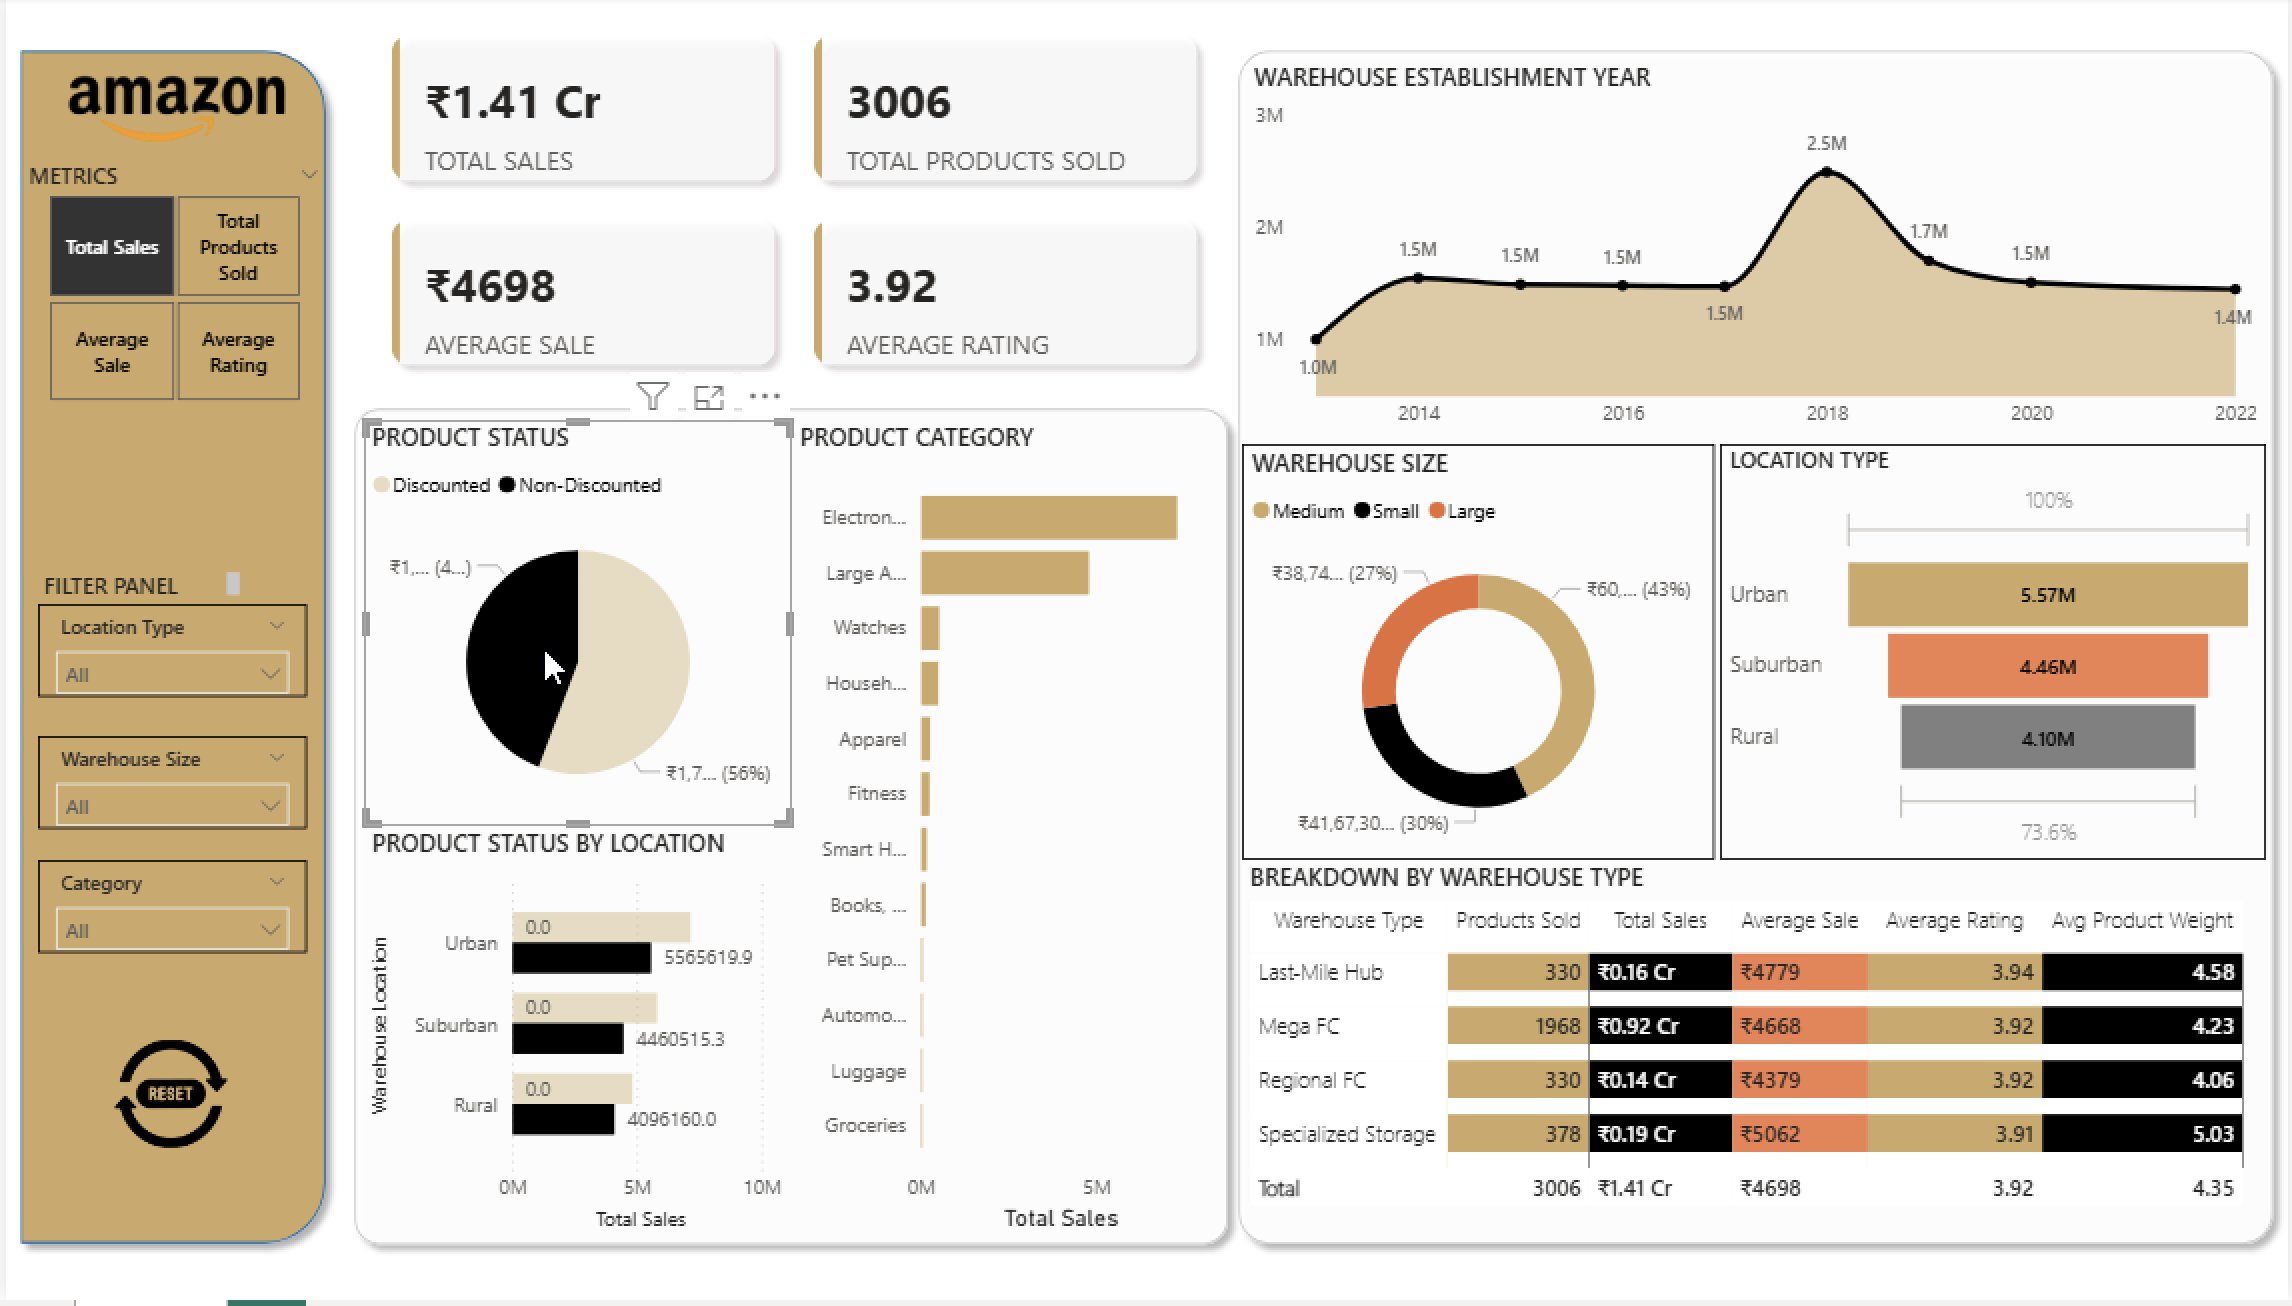

This screenshot's page, from the dashboard's own definition file:
{"tool":"powerbi","page":{"name":"Page 1","canvas":[1400,800],"ordinal":0},"visuals":[{"type":"shape","box":[0,24.9,205,749.7],"z":0},{"type":"image","box":[0,39.6,205.1,58],"z":1000},{"type":"cardVisual","fields":{"Data":["Sheet 1 - FINAL FILE.Total Sales","Sheet 1 - FINAL FILE.Total Products Sold","Sheet 1 - FINAL FILE.Average Sale","Sheet 1 - FINAL FILE.Average Rating"]},"box":[219.3,6.8,528,236.9],"z":2000},{"type":"shape","box":[204.4,243.7,553.8,530.8],"z":3000},{"type":"pieChart","title":"PRODUCT STATUS","fields":{"Y":["Sheet 1 - FINAL FILE.Overall Sales"],"Category":["Sheet 1 - FINAL FILE.Product Status"]},"box":[219.3,260,262.7,249.1],"z":4000},{"type":"slicer","fields":{"Values":["Metrics.Metrics"]},"box":[1.4,97.5,203.1,158.4],"z":5000},{"type":"clusteredBarChart","title":"PRODUCT STATUS BY LOCATION","fields":{"Y":["Sheet 1 - FINAL FILE.Overall Sales"],"Category":["Sheet 1 - FINAL FILE.Warehouse Location"],"Series":["Sheet 1 - FINAL FILE.Product Status"]},"box":[219.3,509.1,262.7,253.2],"z":6000},{"type":"barChart","title":"PRODUCT CATEGORY","fields":{"Y":["Sheet 1 - FINAL FILE.Overall Sales"],"Category":["Sheet 1 - FINAL FILE.Category"]},"box":[482,260,265.4,502.3],"z":7000},{"type":"shape","box":[747.4,24.4,652.6,750.1],"z":8000},{"type":"lineChart","title":"WAREHOUSE ESTABLISHMENT YEAR","fields":{"Y":["Sheet 1 - FINAL FILE.Overall Sales"],"Category":["Sheet 1 - FINAL FILE.Warehouse Establishment Year"]},"box":[761,39.2,625,235.4],"z":9000},{"type":"donutChart","title":"WAREHOUSE SIZE","fields":{"Y":["Sheet 1 - FINAL FILE.Overall Sales"],"Category":["Sheet 1 - FINAL FILE.Warehouse Size"]},"box":[758.2,274.7,290.1,255.1],"z":10000},{"type":"funnel","title":"LOCATION TYPE","fields":{"Category":["Sheet 1 - FINAL FILE.Warehouse Location"],"Y":["Sheet 1 - FINAL FILE.Overall Sales"]},"box":[1051.1,274.7,334.9,255.1],"z":11000},{"type":"pivotTable","title":"BREAKDOWN BY WAREHOUSE TYPE","fields":{"Rows":["Sheet 1 - FINAL FILE.Warehouse Type"],"Values":["Sheet 1 - FINAL FILE.Products Sold","Sheet 1 - FINAL FILE.Total Sales","Sheet 1 - FINAL FILE.Average Sale","Sheet 1 - FINAL FILE.Average Rating","Avg(Sheet 1 - FINAL FILE.Product Weight)"]},"box":[758.2,529.7,626.4,232.6],"z":12000},{"type":"slicer","fields":{"Values":["Sheet 1 - FINAL FILE.Warehouse Location"]},"box":[19.6,372.8,165.4,57.5],"z":13000},{"type":"slicer","fields":{"Values":["Sheet 1 - FINAL FILE.Warehouse Size"]},"box":[19.6,454.1,165.4,57.5],"z":14000},{"type":"slicer","fields":{"Values":["Sheet 1 - FINAL FILE.Category"]},"box":[19.6,529.7,165.4,57.5],"z":15000},{"type":"textbox","box":[19,348,130,24.4],"z":16000},{"type":"image","box":[58.8,635.1,84.8,76.1],"z":17000}]}

Visuals, with their boxes in screenshot pixels (x1, y1, x2, y2), scaled from the page's 1400x800 canvas onto the 2292x1306 screenshot:
shape: 0/41/336/1265
image: 0/65/336/159
cardVisual - Sheet 1 - FINAL FILE.Total Sales x Sheet 1 - FINAL FILE.Total Products Sold: 359/11/1223/398
shape: 335/398/1241/1264
"PRODUCT STATUS" pieChart: 359/424/789/831
slicer - Metrics.Metrics: 2/159/335/418
"PRODUCT STATUS BY LOCATION" clusteredBarChart: 359/831/789/1244
"PRODUCT CATEGORY" barChart: 789/424/1224/1244
shape: 1224/40/2291/1264
"WAREHOUSE ESTABLISHMENT YEAR" lineChart: 1246/64/2269/448
"WAREHOUSE SIZE" donutChart: 1241/448/1716/865
"LOCATION TYPE" funnel: 1721/448/2269/865
"BREAKDOWN BY WAREHOUSE TYPE" pivotTable: 1241/865/2267/1244
slicer - Sheet 1 - FINAL FILE.Warehouse Location: 32/609/303/702
slicer - Sheet 1 - FINAL FILE.Warehouse Size: 32/741/303/835
slicer - Sheet 1 - FINAL FILE.Category: 32/865/303/959
textbox: 31/568/244/608
image: 96/1037/235/1161
